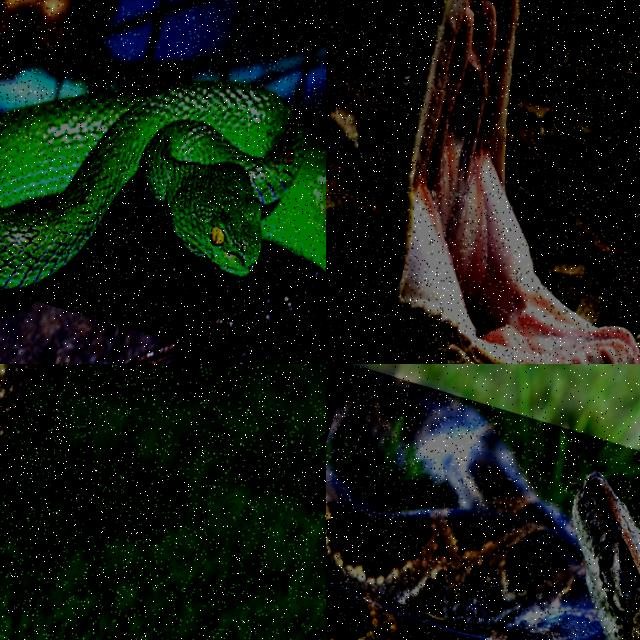Malayopython reticulatus: (326, 0, 639, 363)
Naja siamensis: (0, 364, 32, 441)
Python bivittatus: (326, 367, 639, 639)
Trimeresurus macrops: (0, 82, 325, 290)
